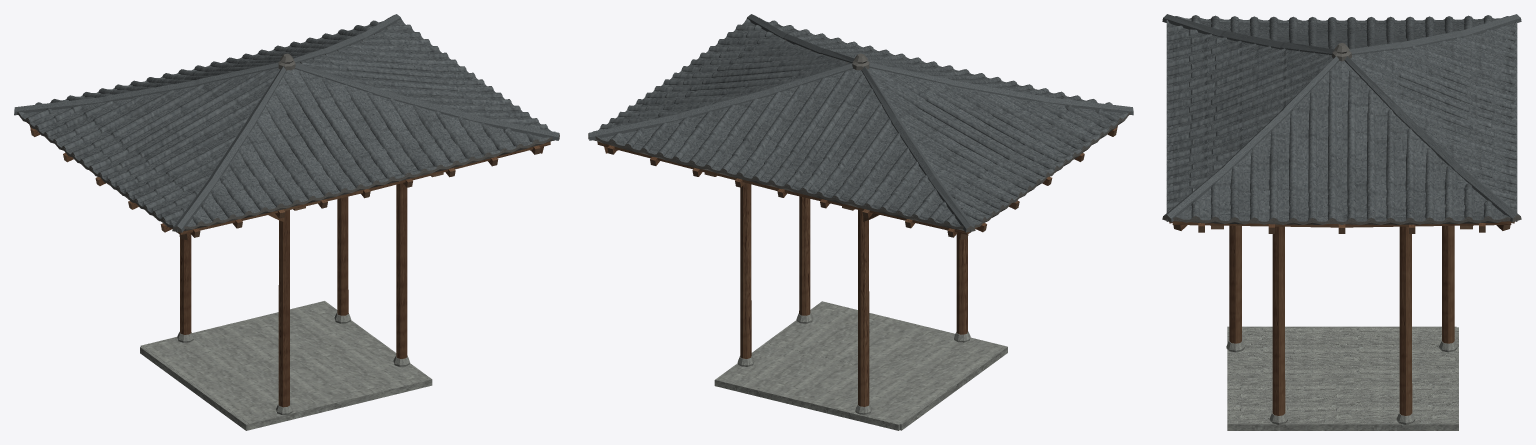
Rendered from HunyuanProfile_Trial_LOD0.fbx.
The picture shows the model from 3 angles, left to right: view 1: azimuth 30°, elevation 25°; view 2: azimuth 150°, elevation 25°; view 3: azimuth 270°, elevation 25°; orthographic projection. The views are drawn at different scales.
Parts seen in each view (by area): view 1: GalleryCorner; view 2: GalleryCorner; view 3: GalleryCorner.
Boxes of the visible parts, left/top/right/bottom form: GalleryCorner: left=14, top=14, right=559, bottom=430; GalleryCorner: left=588, top=14, right=1133, bottom=430; GalleryCorner: left=1162, top=14, right=1521, bottom=430.
Bounding box in the file's own units: 6.19 × 4.79 × 4.61.
